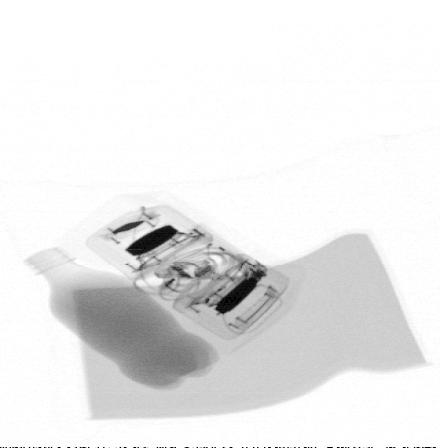Lighter: (207, 259, 267, 315)
